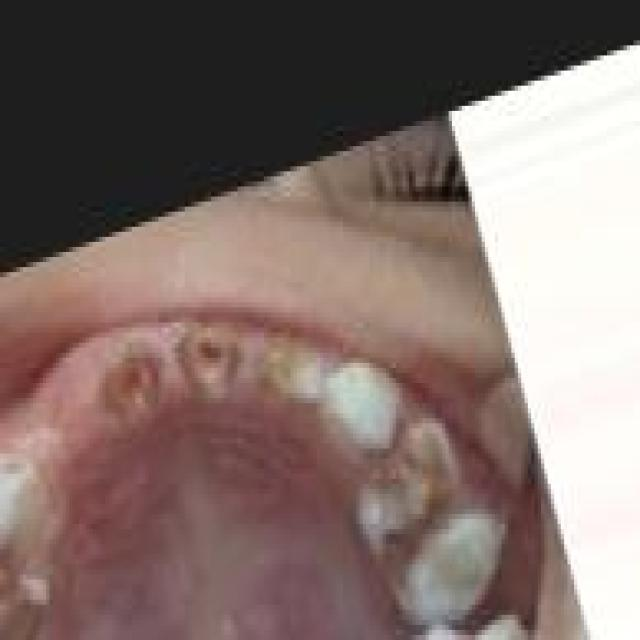caries: (354, 412, 456, 565), (90, 326, 166, 442), (177, 316, 251, 428), (256, 316, 323, 425)
